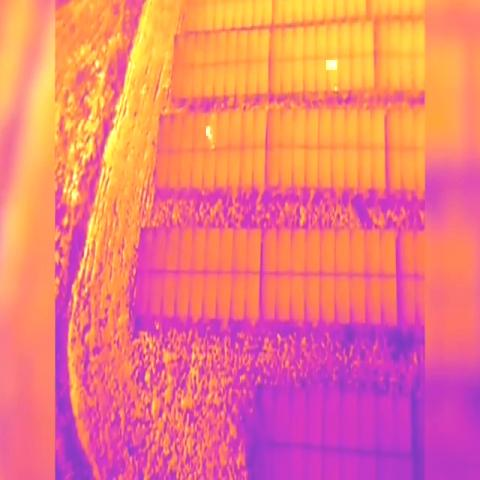fault: (326, 60, 337, 70), (334, 83, 338, 94), (206, 126, 210, 136), (208, 133, 212, 142), (212, 143, 216, 150)
